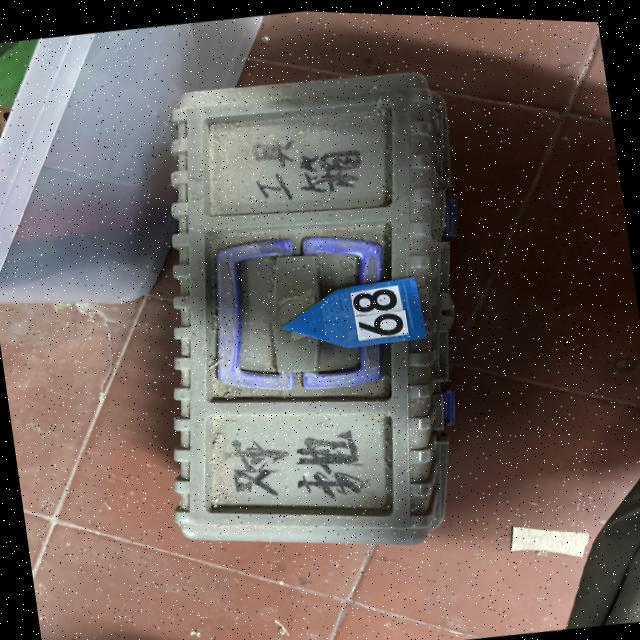board: (280, 269, 430, 345)
